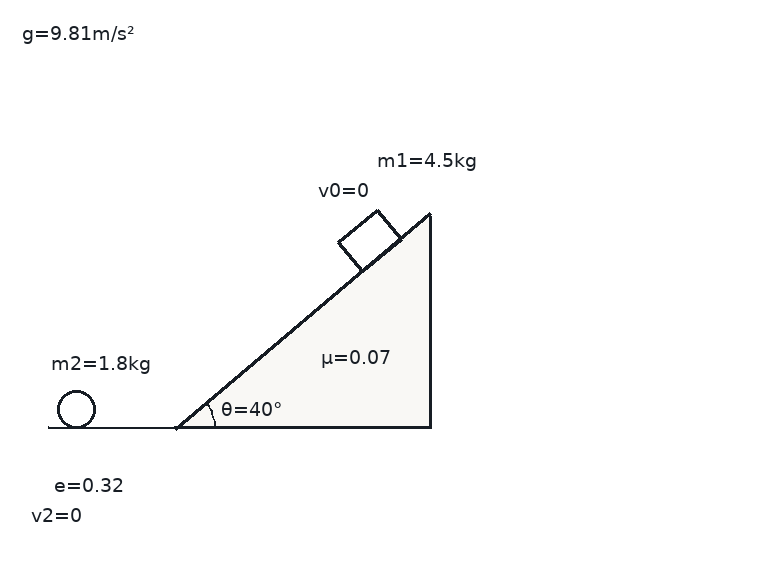ball: (55, 388, 97, 430)
block: (336, 208, 403, 273)
ramp: (173, 213, 431, 430)
